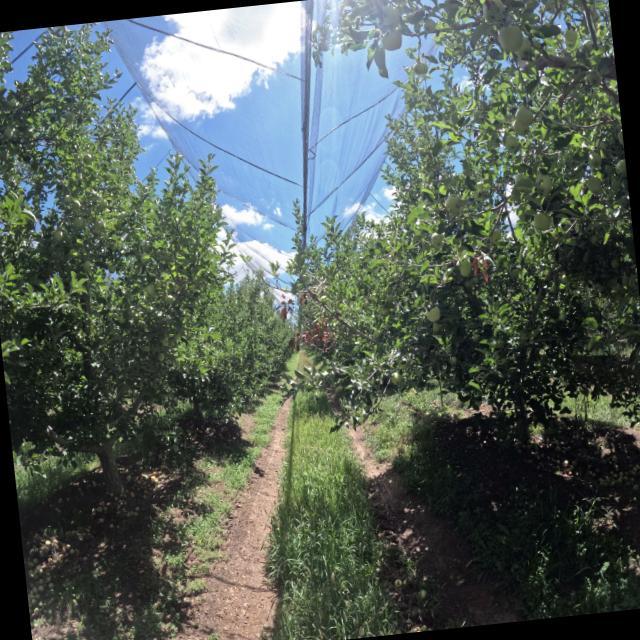-FireBlight-: (285, 310, 338, 354), (472, 247, 490, 283), (276, 291, 296, 319), (298, 291, 308, 305)
